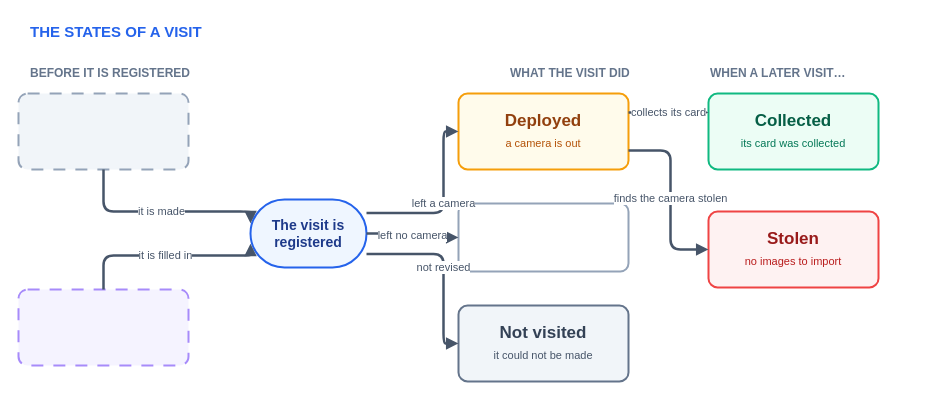
This 925x399 diagram has some shape labels left out. Here are the shapes that lost their labels. From the top down, the centre of each, then its label:
At (x=103, y=131): "Planned not made yet".
At (x=543, y=237): "No camera no camera is out".
At (x=103, y=327): "Unknown nothing is known of it".
